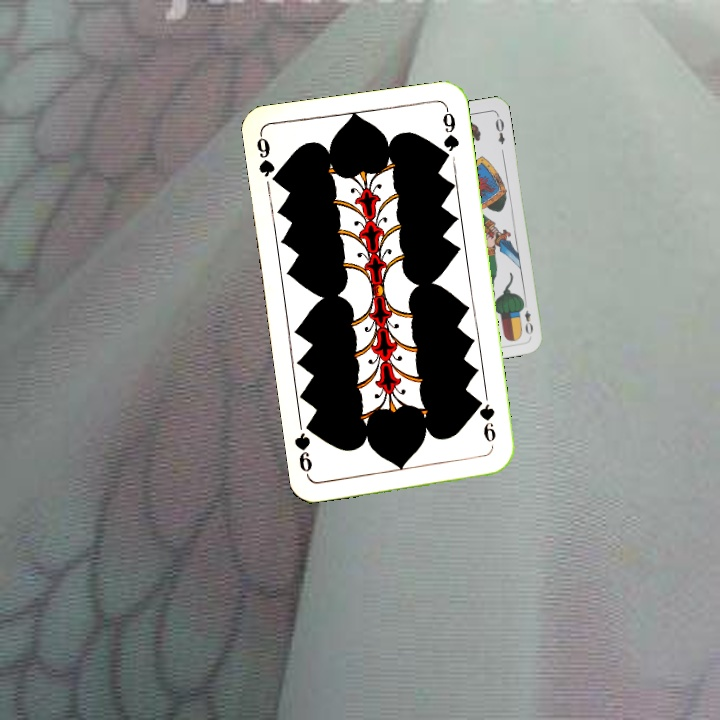EO: (517, 297, 536, 337)
G9: (252, 131, 283, 188), (473, 394, 498, 445)
